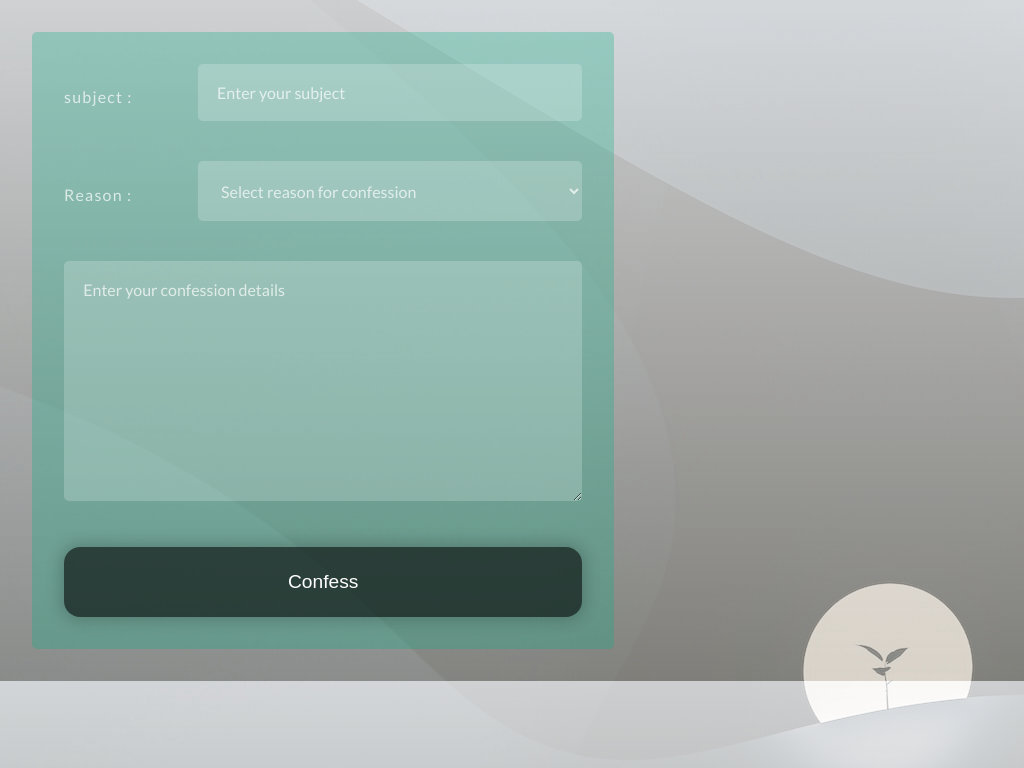
Test case: displays error message for typing less than 10 characters subject field
The image size is (1024, 768).
user types in input field
Type "I" into the field.
click(390, 93); type("I")  # box [198,64,582,121]
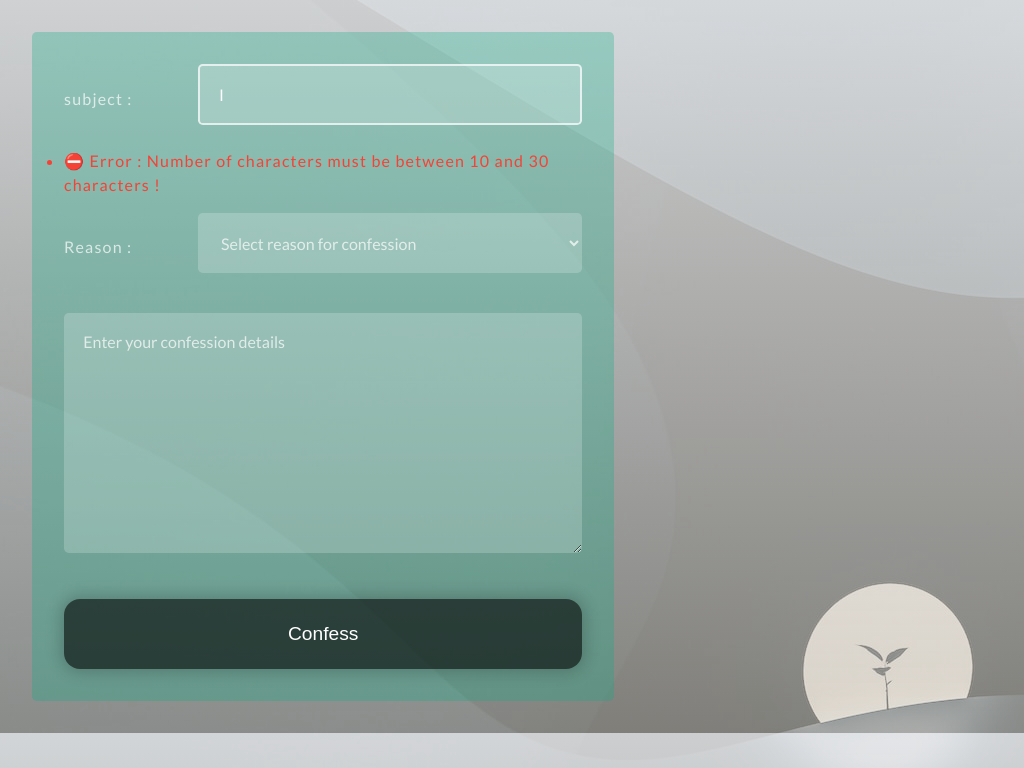
Now the list item reads "⛔️ Error : Number of characters must be between 10 and 30 characters !", box [64,151,549,194]
